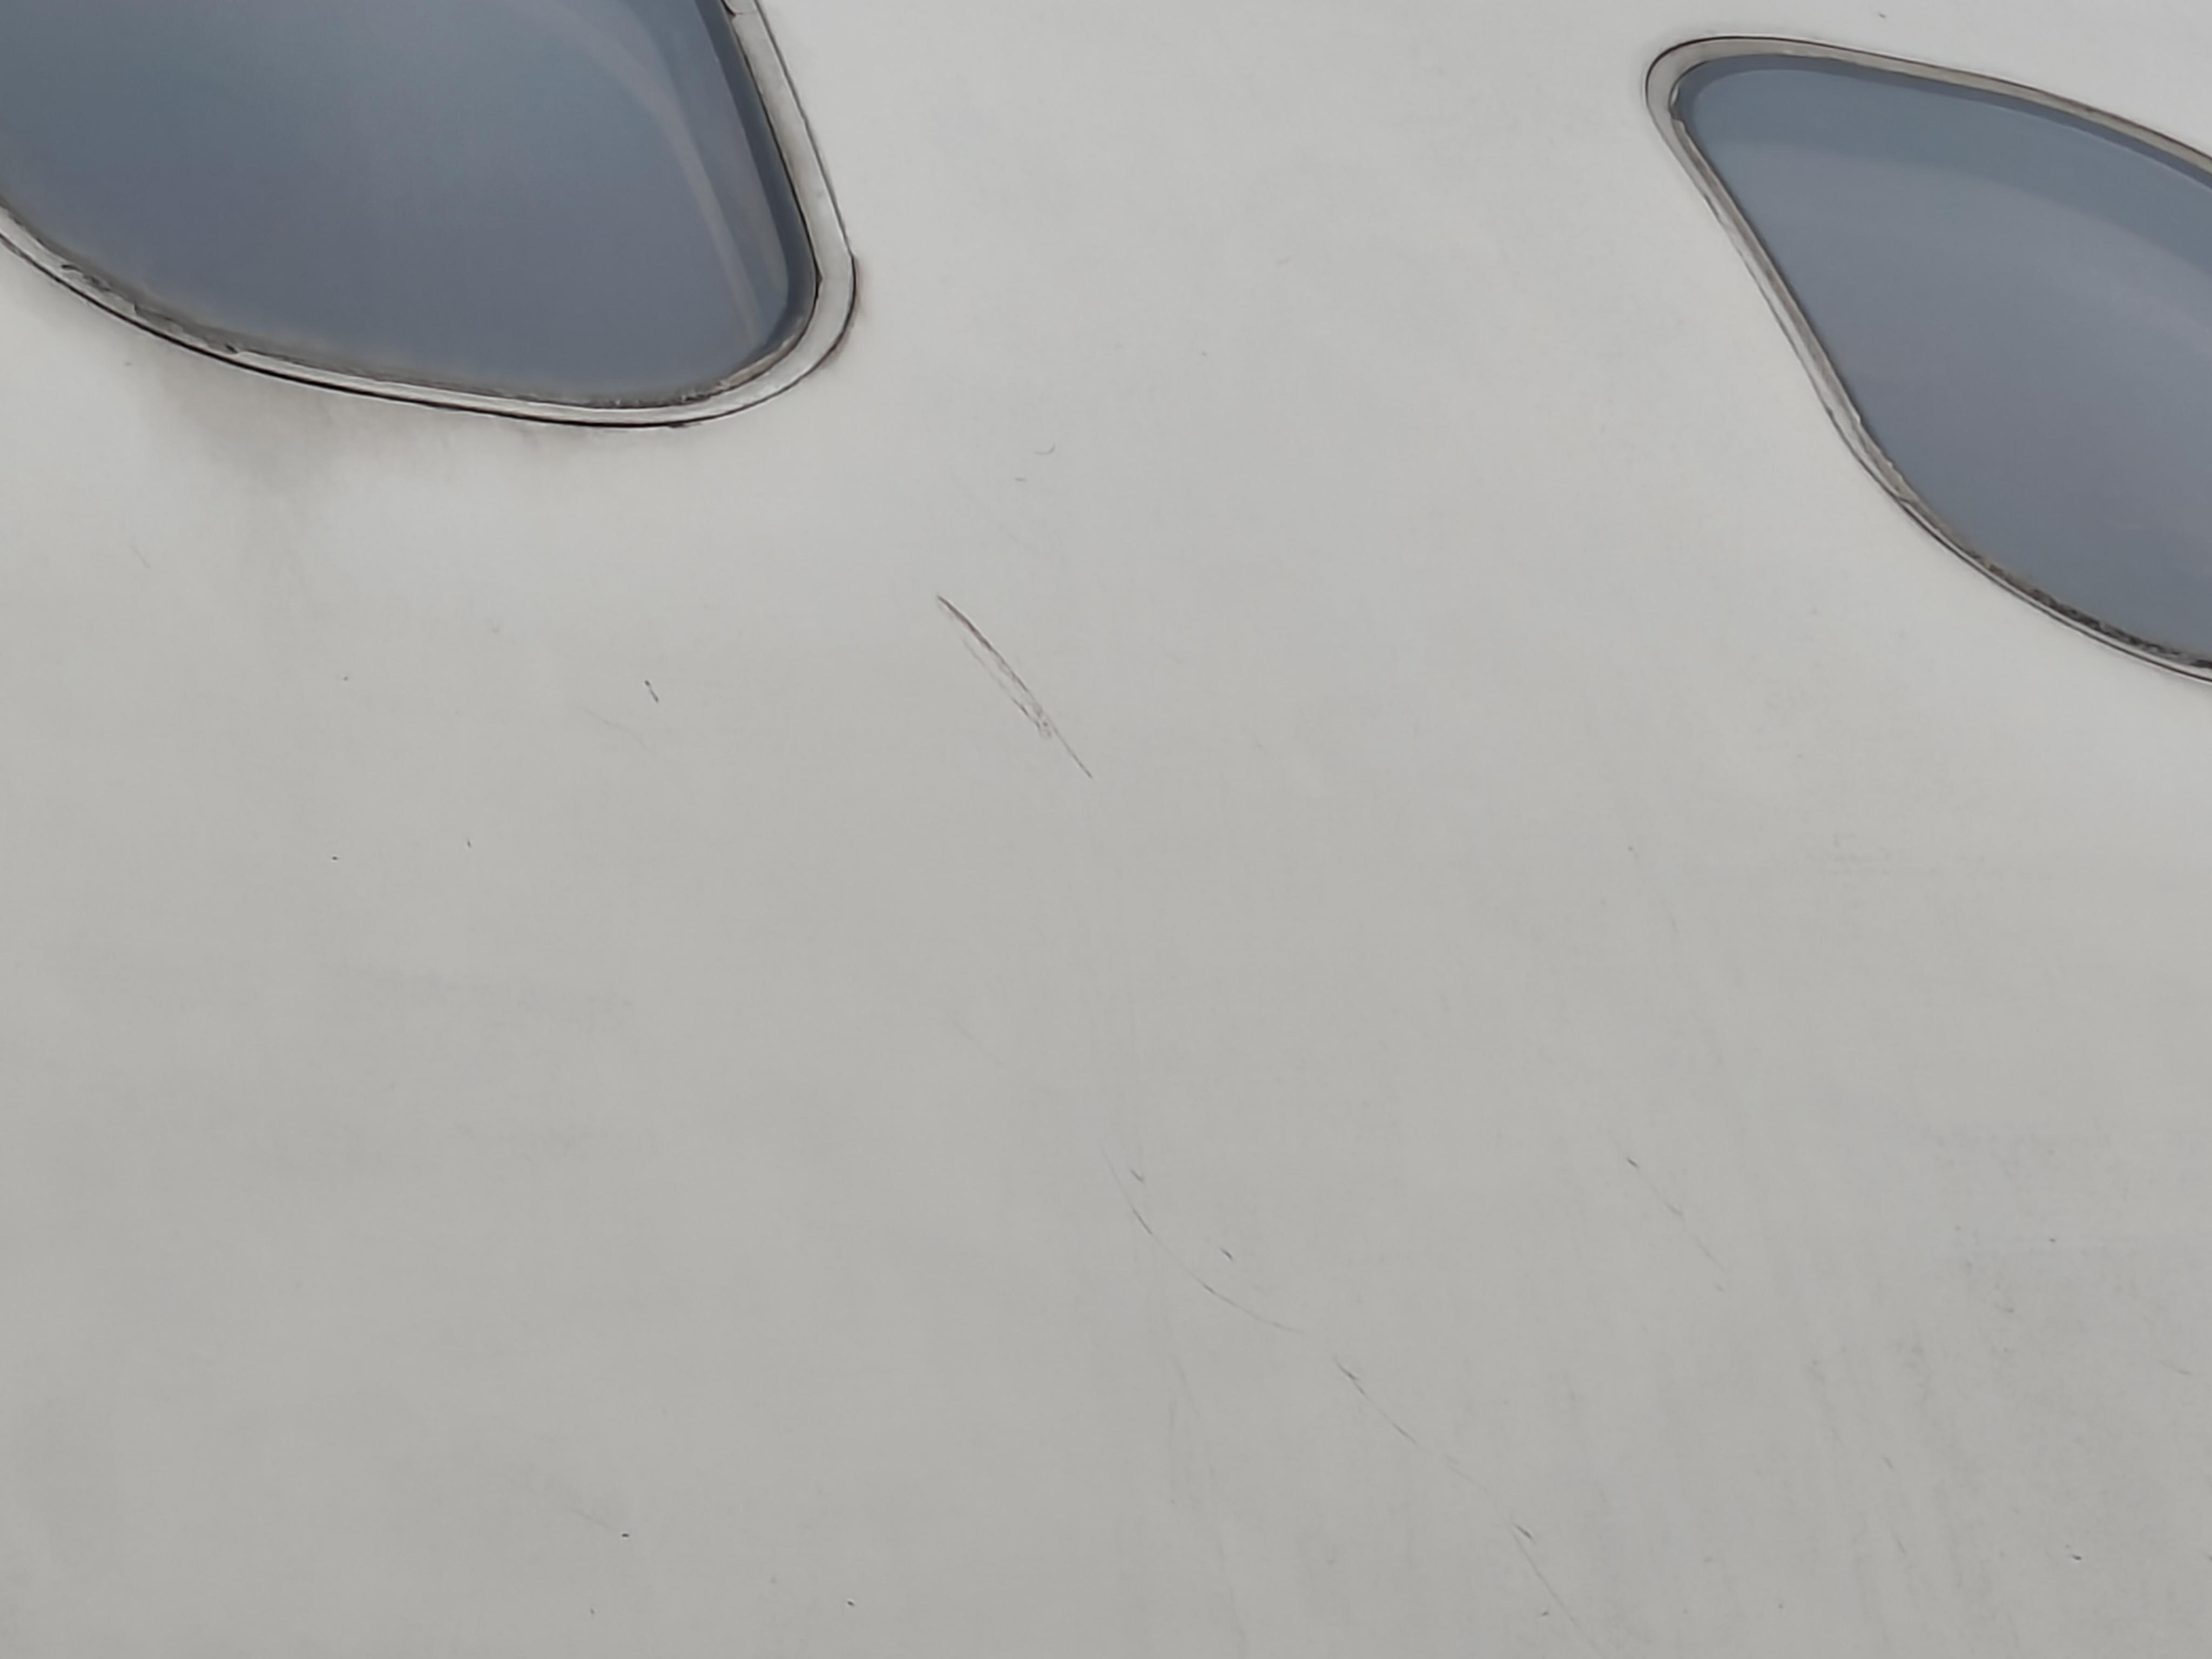Scratches: (904, 552, 1129, 814)
